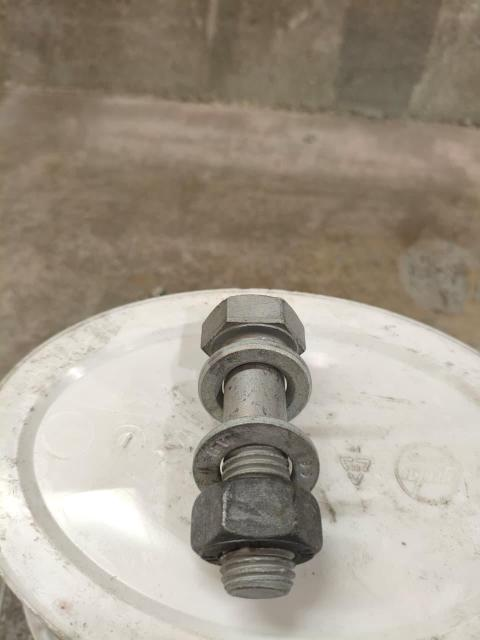Metal: (190, 294, 324, 601)
